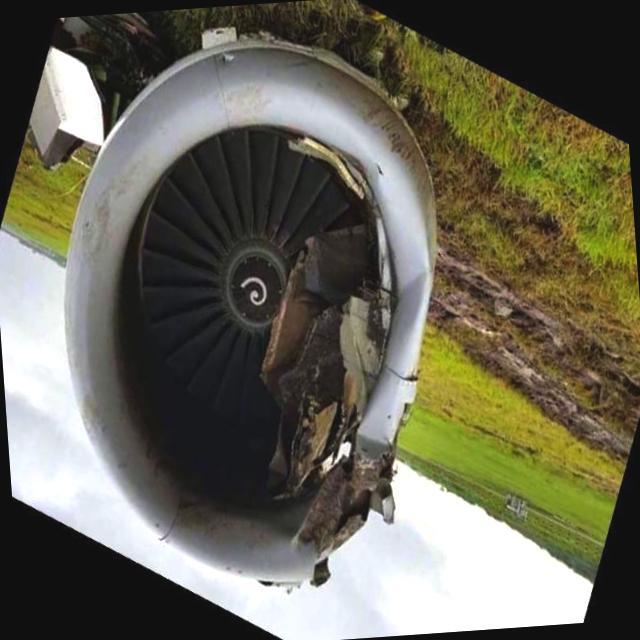dent: (372, 186, 451, 348), (352, 411, 394, 459)
